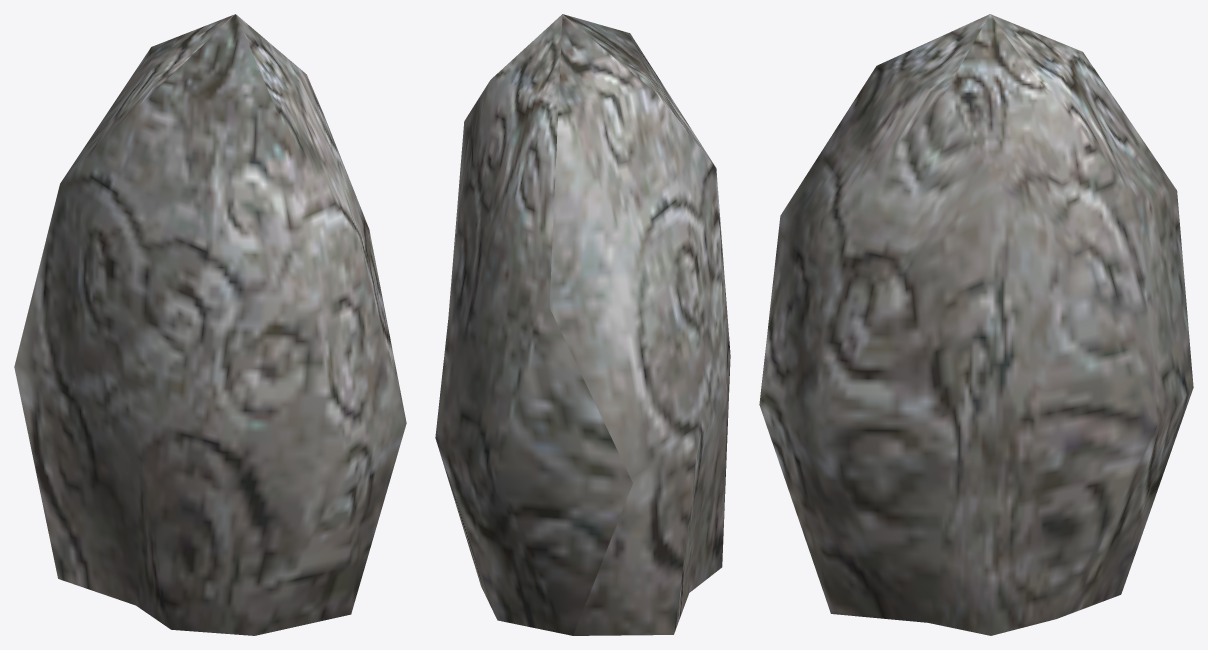
The model's file is standingstone_e.glb.
The picture shows the model from 3 angles, left to right: view 1: azimuth 30°, elevation 25°; view 2: azimuth 150°, elevation 25°; view 3: azimuth 270°, elevation 25°; orthographic projection. The views are drawn at different scales.
Parts seen in each view (by area): view 1: Object033; view 2: Object033; view 3: Object033.
Boxes of the visible parts, left/top/right/bottom form: Object033: left=14, top=14, right=406, bottom=635; Object033: left=435, top=14, right=730, bottom=635; Object033: left=759, top=14, right=1193, bottom=635.
Bounding box in the file's own units: 1.5 × 3.22 × 2.18.
1 material, 1 textured.
